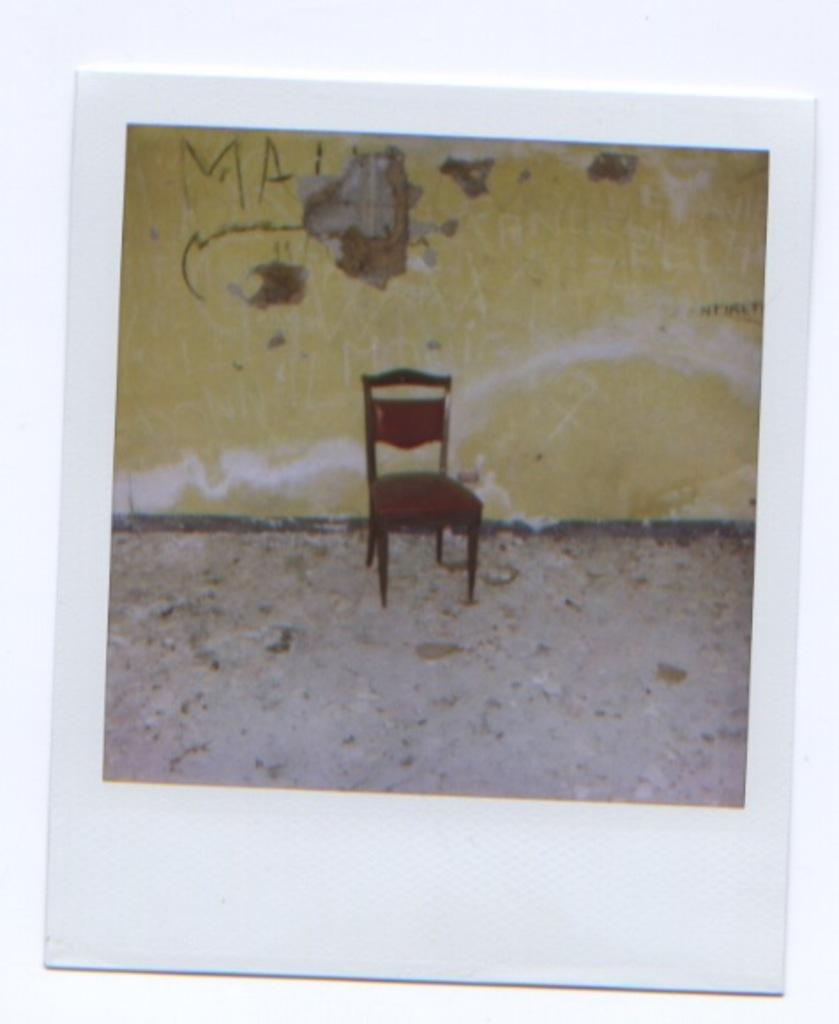Chair: (355, 373, 486, 595)
